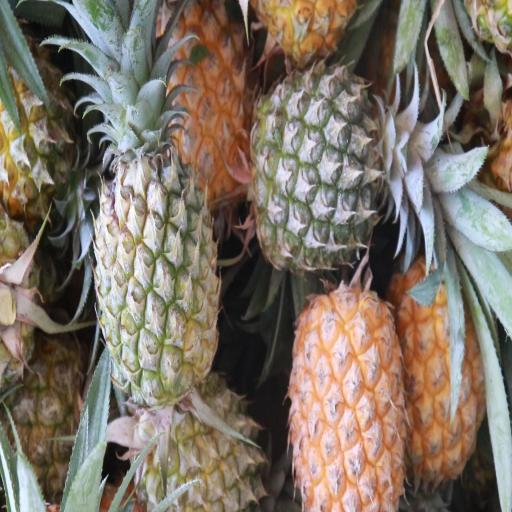Pineapple - v8 v1: (403, 256, 511, 512), (294, 281, 408, 512), (144, 0, 260, 200)
